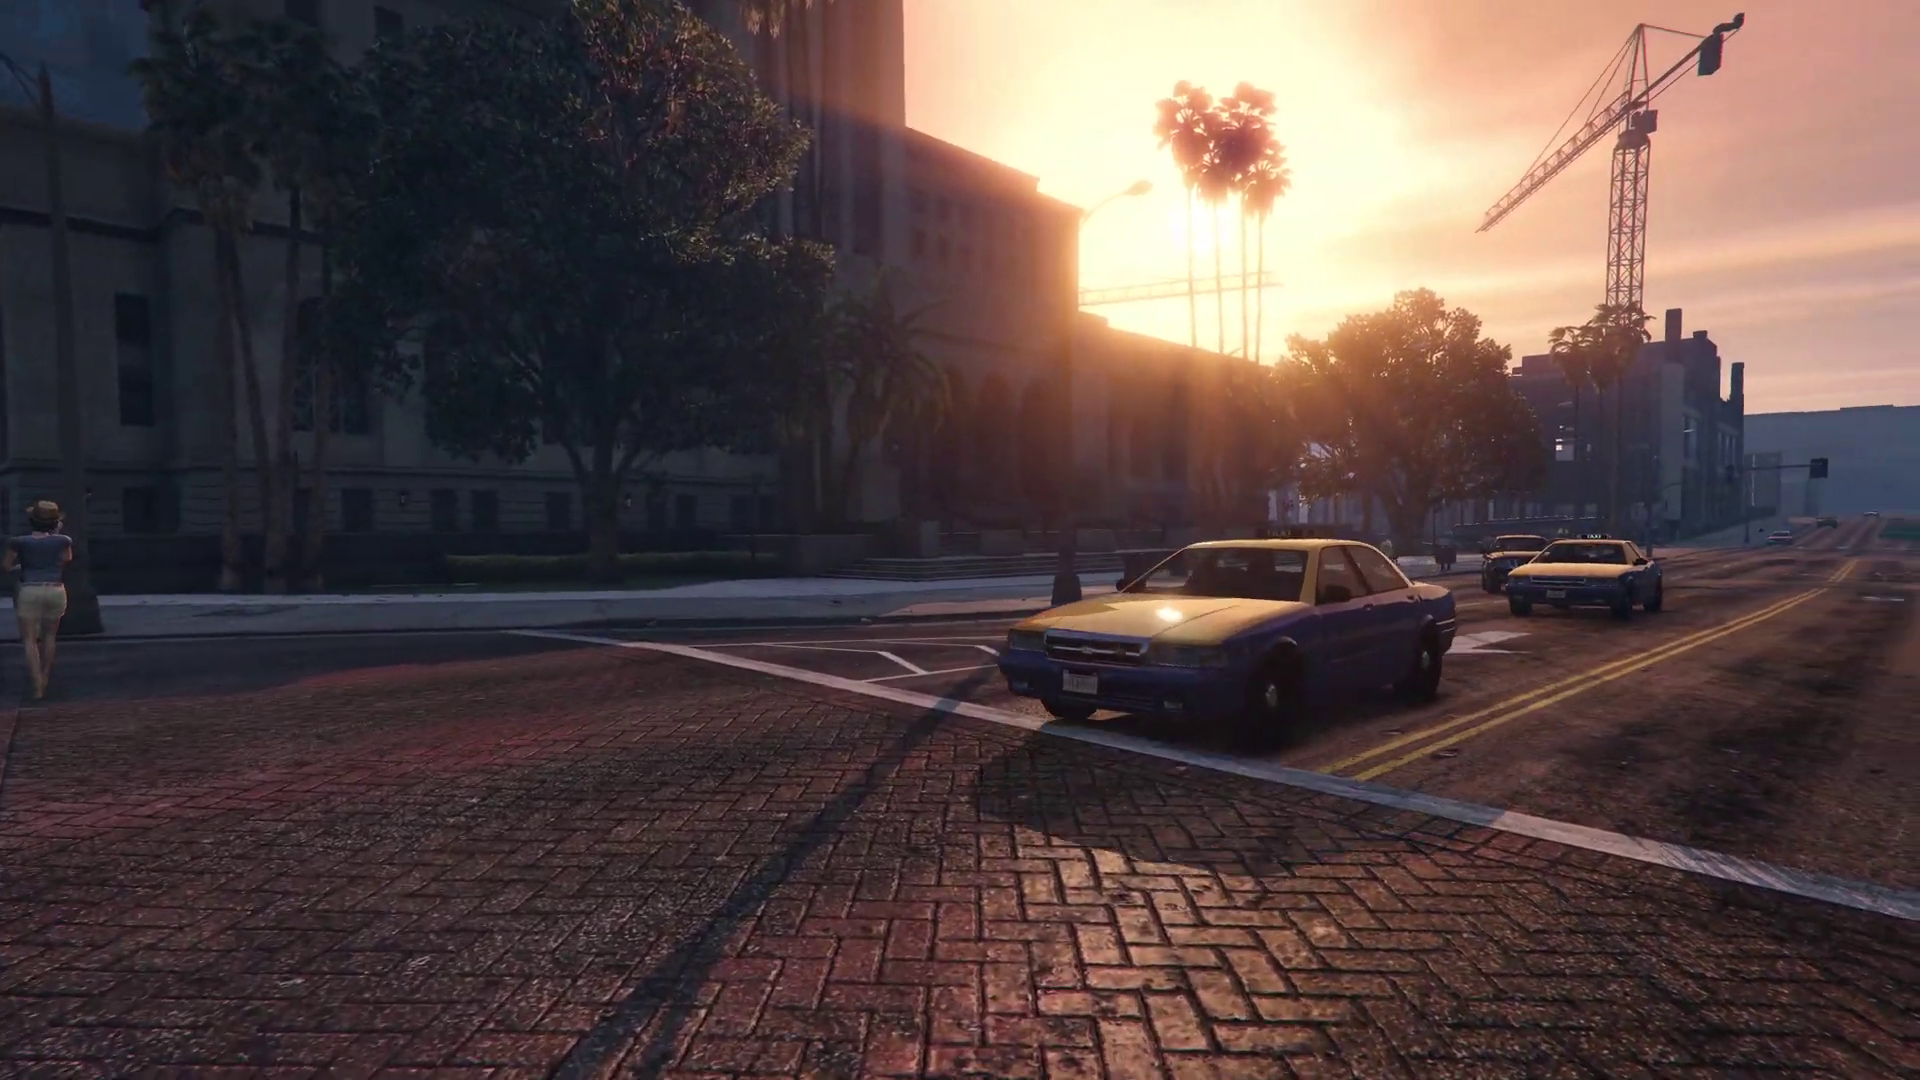car: (1004, 538, 1456, 723), (1510, 536, 1665, 619), (1481, 535, 1550, 589), (1766, 529, 1794, 546), (1814, 514, 1838, 529), (1861, 508, 1880, 519)
person: (1, 497, 79, 698)
